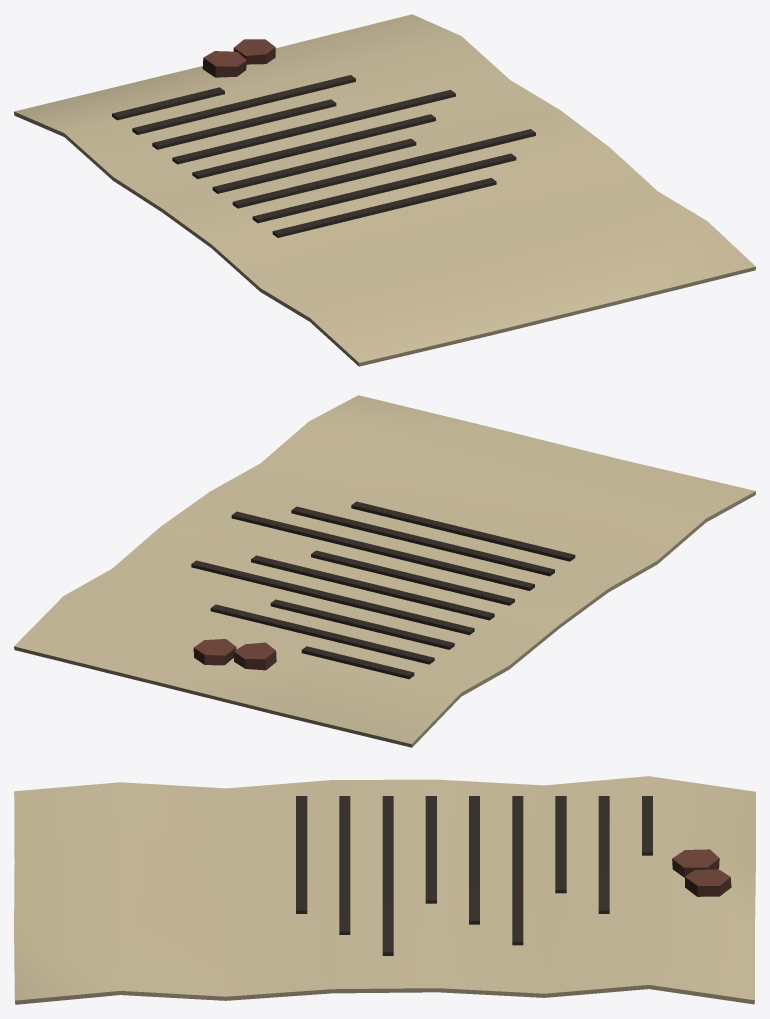
The model's file is ph_prop_letter_open.glb.
The picture shows the model from 3 angles, top to bottom: view 1: azimuth 30°, elevation 25°; view 2: azimuth 150°, elevation 25°; view 3: azimuth 270°, elevation 25°; orthographic projection. The views are drawn at different scales.
Visible parts, largest first — view 1: ph_prop_letter_open; view 2: ph_prop_letter_open; view 3: ph_prop_letter_open.
Boxes of the visible parts, box(x1,y1,x2,y2) form: ph_prop_letter_open: box(14, 14, 755, 366); ph_prop_letter_open: box(14, 395, 755, 747); ph_prop_letter_open: box(14, 776, 755, 1004).
Bounding box in the file's own units: 0.1605 × 0.0126 × 0.2403.
